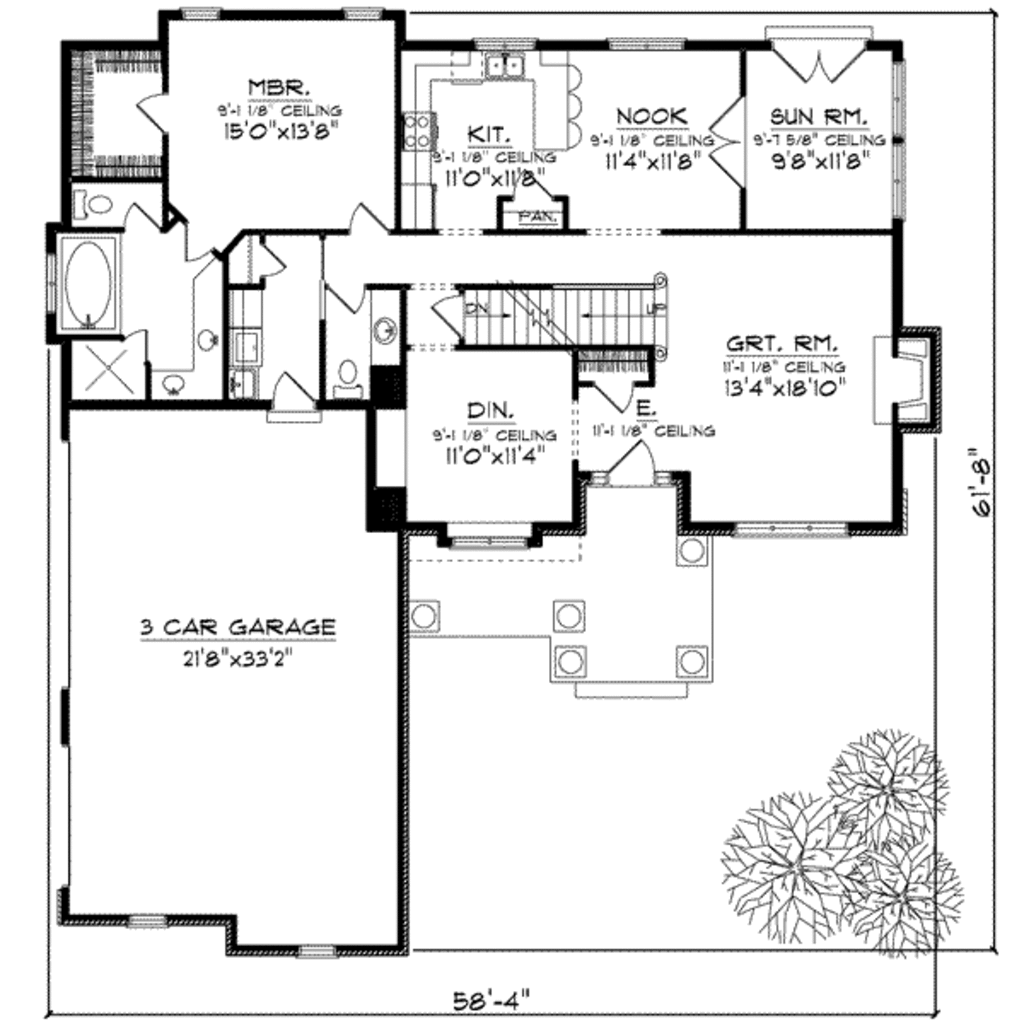door: (761, 39, 864, 88), (706, 94, 752, 192), (266, 371, 321, 426), (604, 439, 654, 489), (128, 82, 168, 130), (343, 201, 388, 236), (324, 282, 366, 316)
kitchen_bar: (527, 58, 584, 153)
large_sink: (66, 184, 117, 226), (325, 353, 366, 400)
small_sink: (190, 268, 229, 391)
stairs: (399, 282, 677, 359)
tub: (56, 230, 125, 335)
windows: (881, 50, 914, 219), (722, 516, 852, 543), (442, 530, 534, 557), (604, 35, 689, 56), (468, 28, 542, 48), (120, 909, 171, 934), (285, 944, 340, 964)
